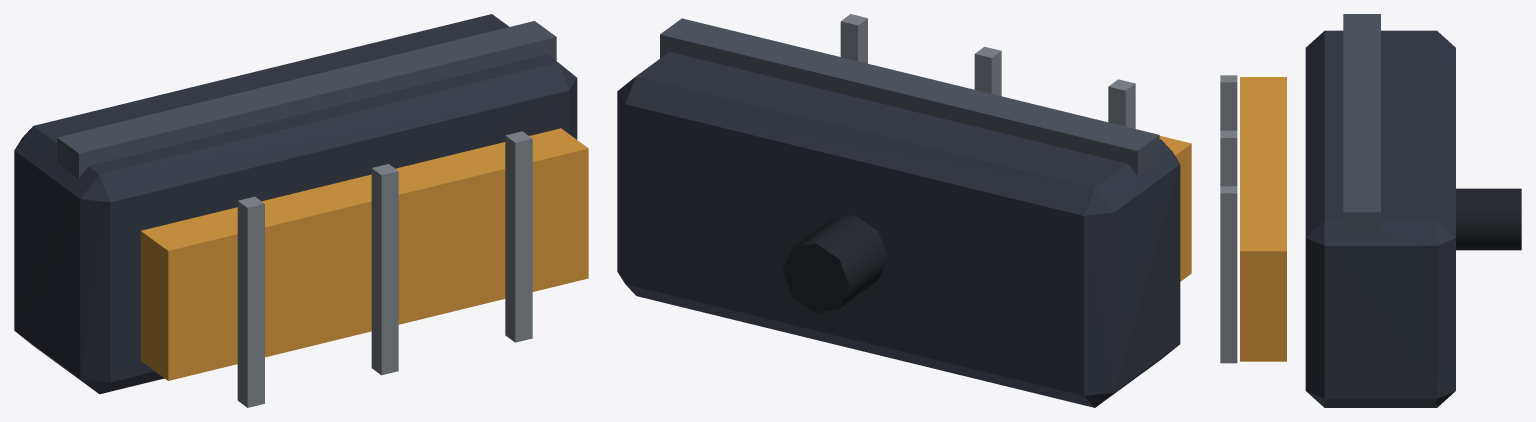
File: wall-lamp.glb
The picture shows the model from 3 angles, left to right: view 1: azimuth 30°, elevation 25°; view 2: azimuth 150°, elevation 25°; view 3: azimuth 270°, elevation 25°; orthographic projection. The views are drawn at different scales.
Visible parts, largest first — view 1: wall_lamp; view 2: wall_lamp; view 3: wall_lamp.
Part boxes in pixels (box(x1,y1,x2,y2)): wall_lamp: box(14, 14, 588, 407); wall_lamp: box(617, 14, 1191, 407); wall_lamp: box(1220, 14, 1521, 407).
Size of the model in its own units: 0.52 by 0.235 by 0.321.
